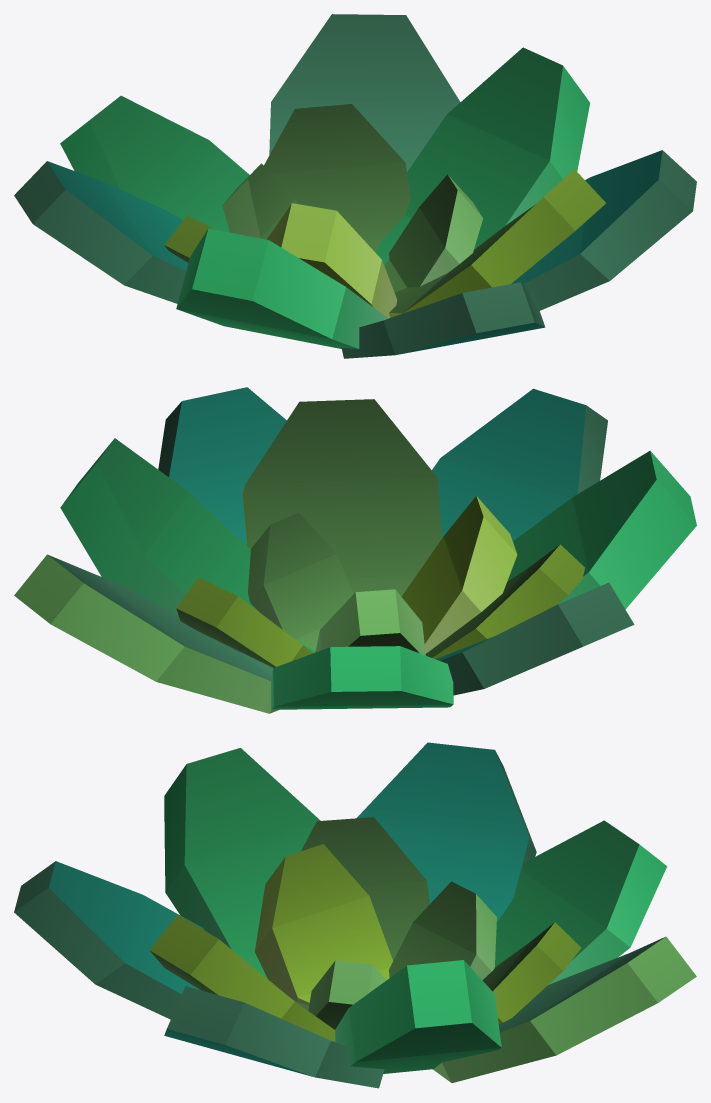
Rendered from Succulent_A_1.fbx.
3 renders of one model, top to bottom at view 1: azimuth 30°, elevation 25°; view 2: azimuth 150°, elevation 25°; view 3: azimuth 270°, elevation 25°, orthographic. The views are drawn at different scales.
Visible parts, largest first — view 1: Succulent_A_1; view 2: Succulent_A_1; view 3: Succulent_A_1.
Boxes of the visible parts, x1,y1,x2,y2 form: Succulent_A_1: [14, 14, 696, 358]; Succulent_A_1: [14, 387, 696, 713]; Succulent_A_1: [14, 742, 696, 1088].
Bounding box in the file's own units: 60.9 × 19.53 × 65.04.
